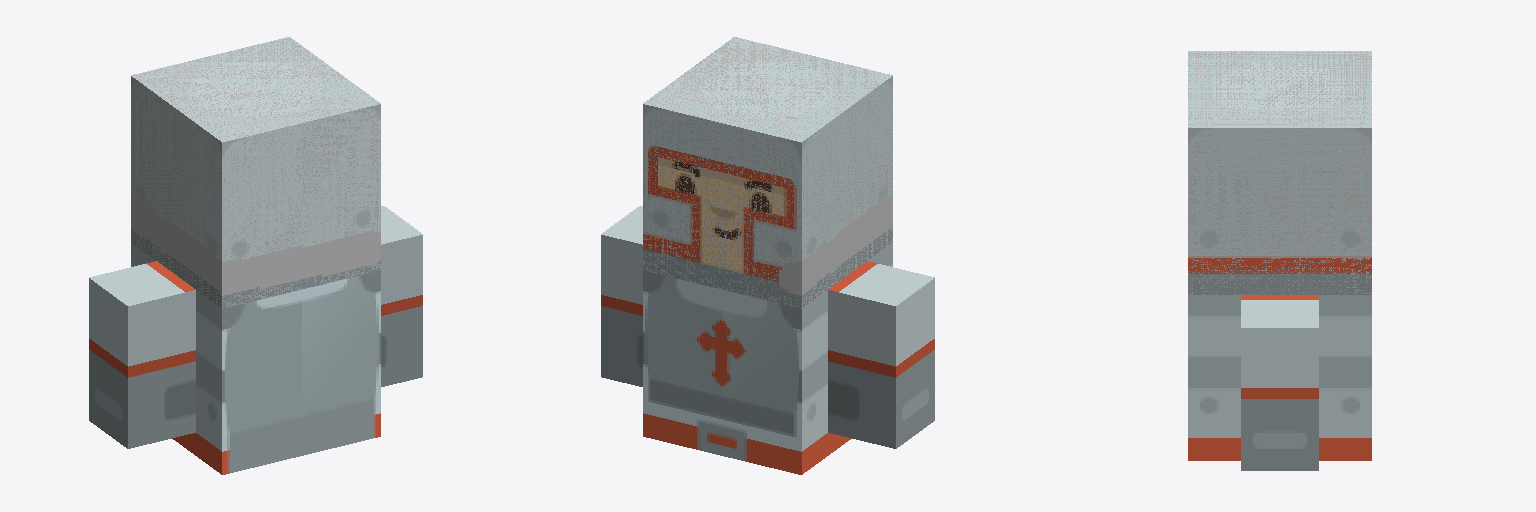
3 views of the same model, side by side, from view 1: azimuth 30°, elevation 25°; view 2: azimuth 150°, elevation 25°; view 3: azimuth 270°, elevation 25° (orthographic).
Visible parts, largest first — view 1: head 2, knightRed, left 2, right 2; view 2: head 2, knightRed, left 2, right 2; view 3: head 2, knightRed, right 2.
Part boxes in pixels (bbox=[...]): head 2: bbox=[131, 37, 380, 308]; knightRed: bbox=[131, 242, 380, 474]; left 2: bbox=[89, 261, 195, 448]; right 2: bbox=[381, 206, 422, 386]; head 2: bbox=[643, 37, 892, 308]; knightRed: bbox=[643, 242, 892, 474]; left 2: bbox=[828, 261, 934, 448]; right 2: bbox=[601, 206, 642, 386]; head 2: bbox=[1188, 51, 1371, 294]; knightRed: bbox=[1188, 295, 1371, 460]; right 2: bbox=[1241, 295, 1318, 470].
Size of the model in its own units: 4.83 by 5.2 by 2.6.
2 materials, 1 textured.